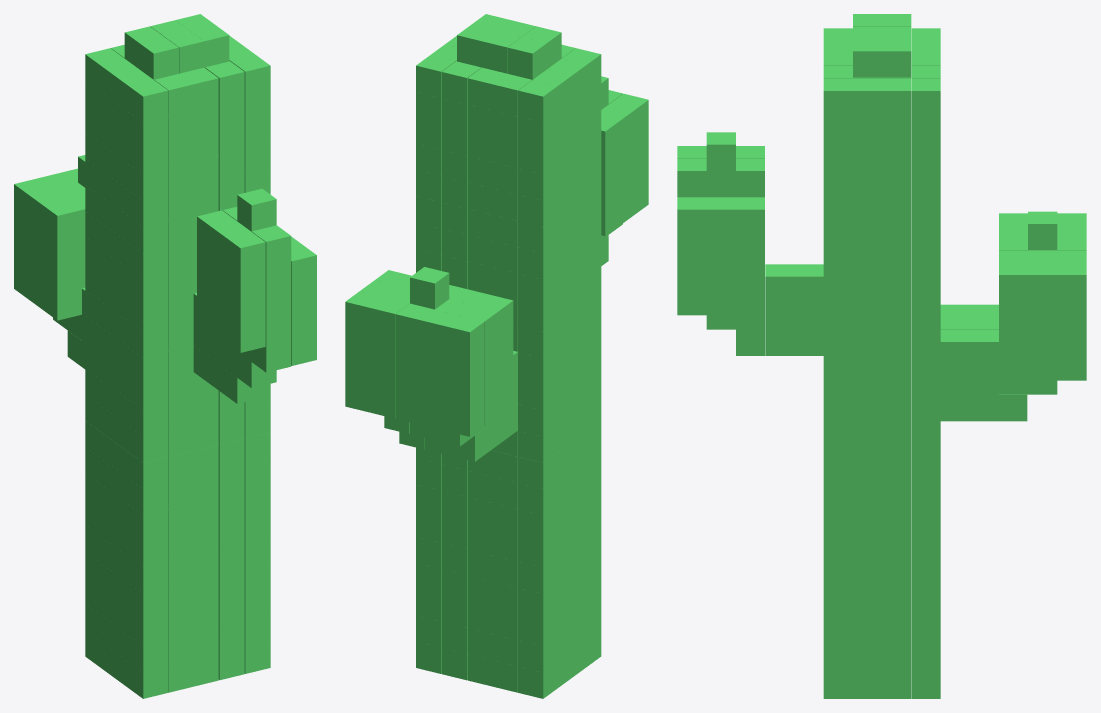
3 renders of one model, left to right at view 1: azimuth 30°, elevation 25°; view 2: azimuth 150°, elevation 25°; view 3: azimuth 270°, elevation 25°, orthographic.
Visible parts, largest first — view 1: Cube.014; view 2: Cube.014; view 3: Cube.014.
Part boxes in pixels (x1,y1,x2,y2): Cube.014: (14, 14, 316, 698); Cube.014: (345, 14, 648, 698); Cube.014: (677, 14, 1086, 698).
Size of the model in its own units: 0.5084 by 2.4 by 1.4.
